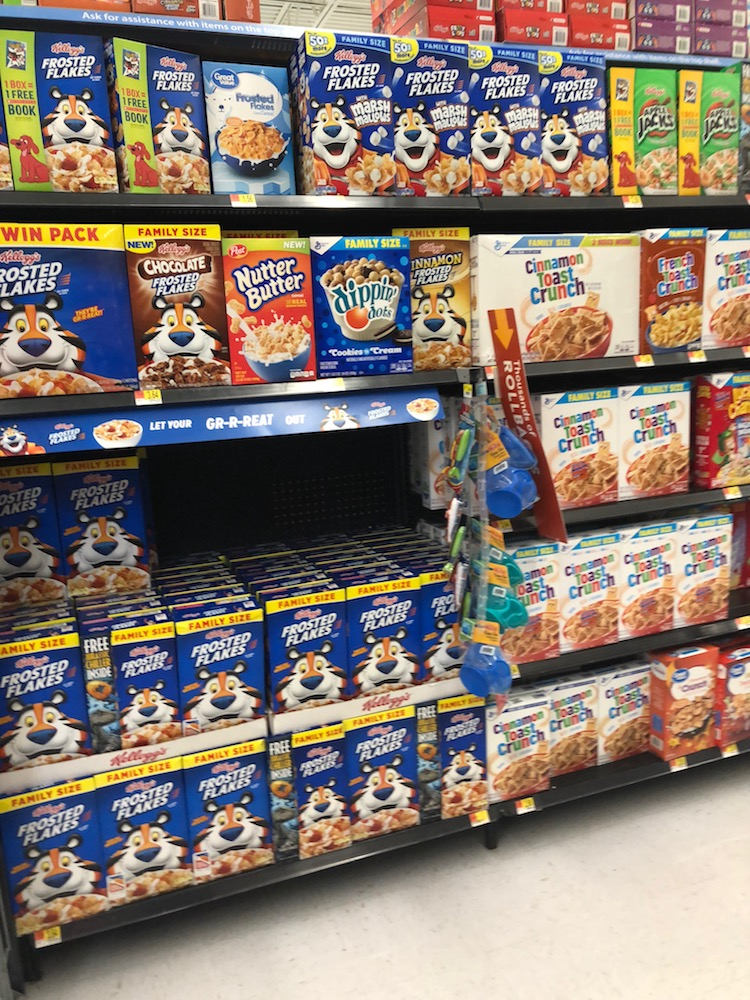Dippin Dots Cookies & Cream -568929378: (310, 232, 407, 376)
Nutter Butter-565717511: (219, 238, 315, 381)
